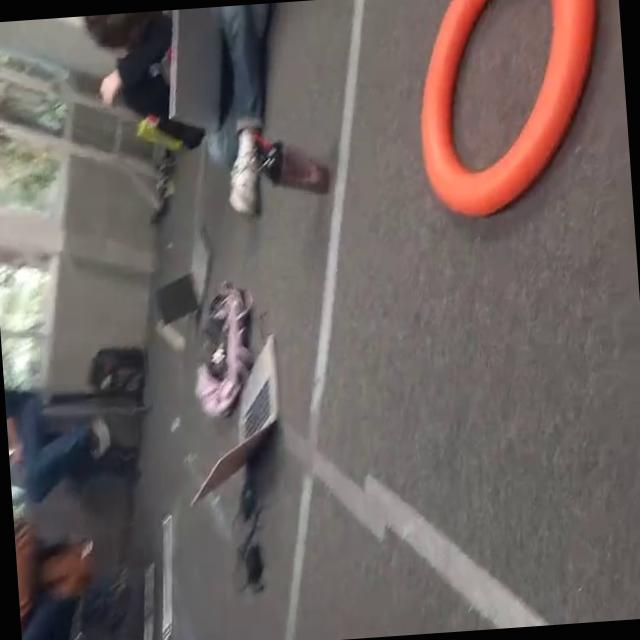note: (404, 0, 618, 240)
